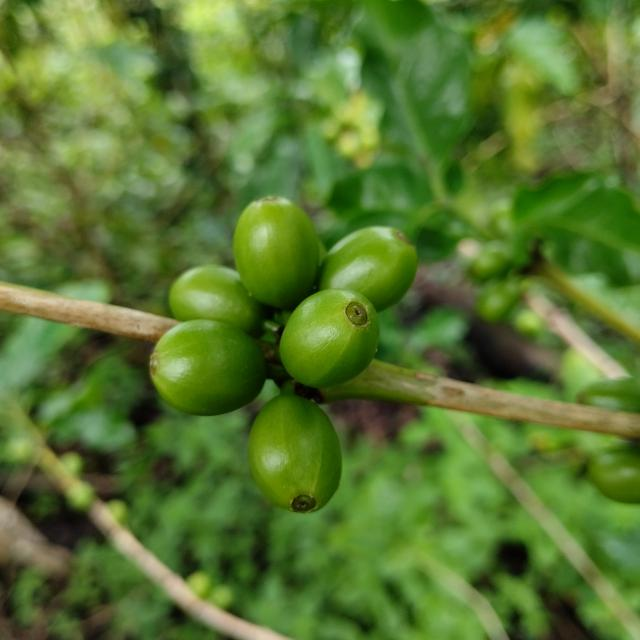green: (149, 319, 266, 416), (249, 395, 342, 513), (279, 288, 380, 389), (233, 196, 319, 309), (319, 226, 418, 311), (169, 264, 267, 337)
